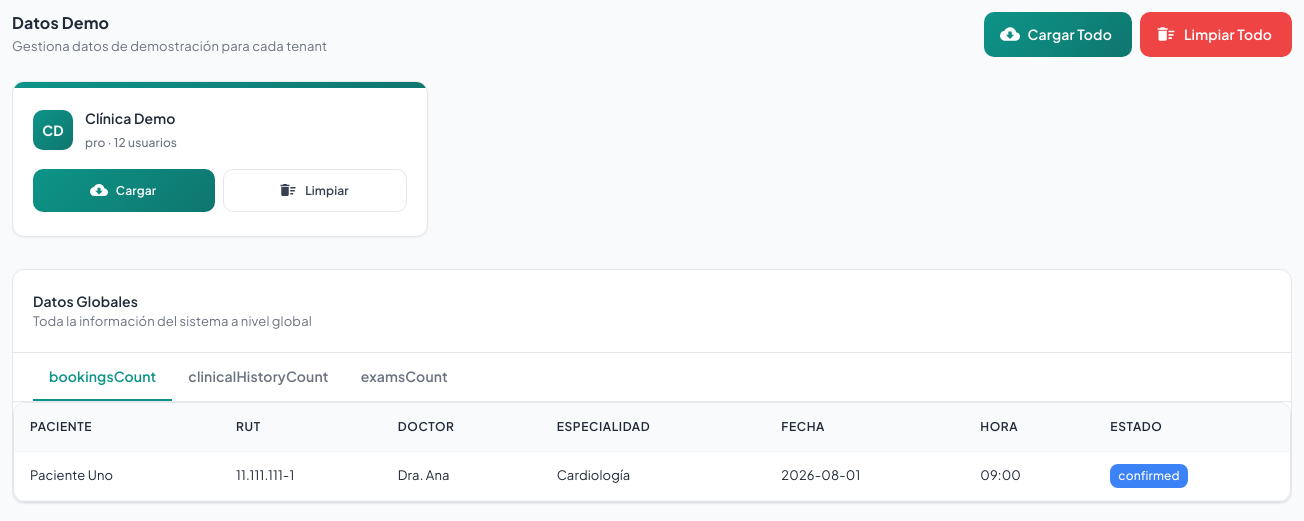
Test: SuperAdminDemoDataPage › switches to the clinical records tab
Expected: the heading "Clínica Demo" is shown, [85, 108, 177, 130]
Click the tab "clinicalHistoryCount": (259, 377) [172, 353, 345, 401]
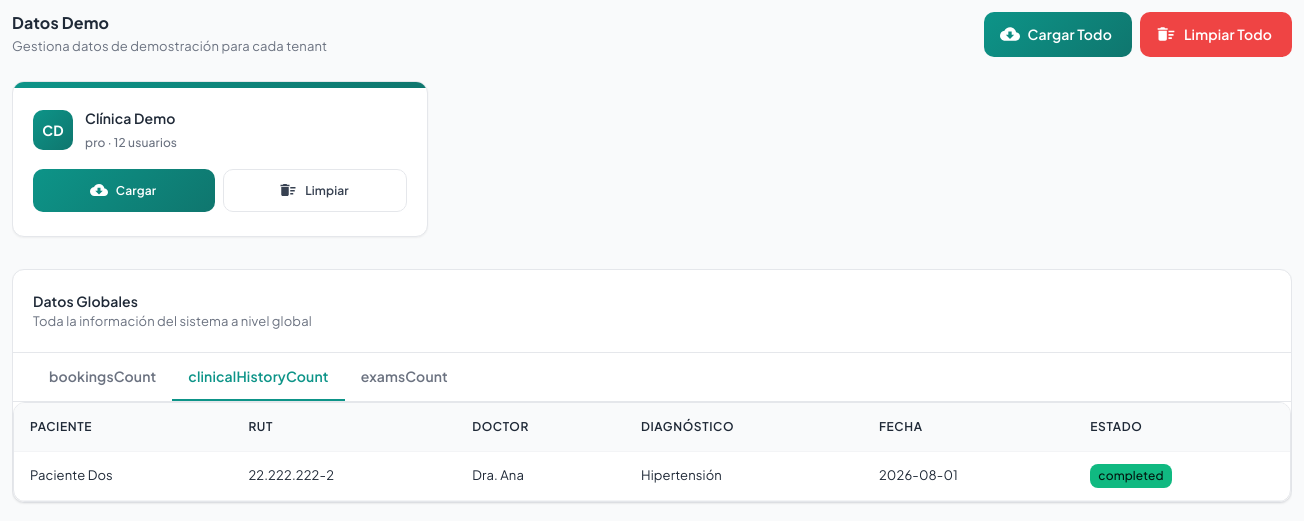
Result: the text "Paciente Dos" is shown at [14, 451, 232, 500]
Result: the text "Hipertensión" is shown at [625, 451, 863, 500]
